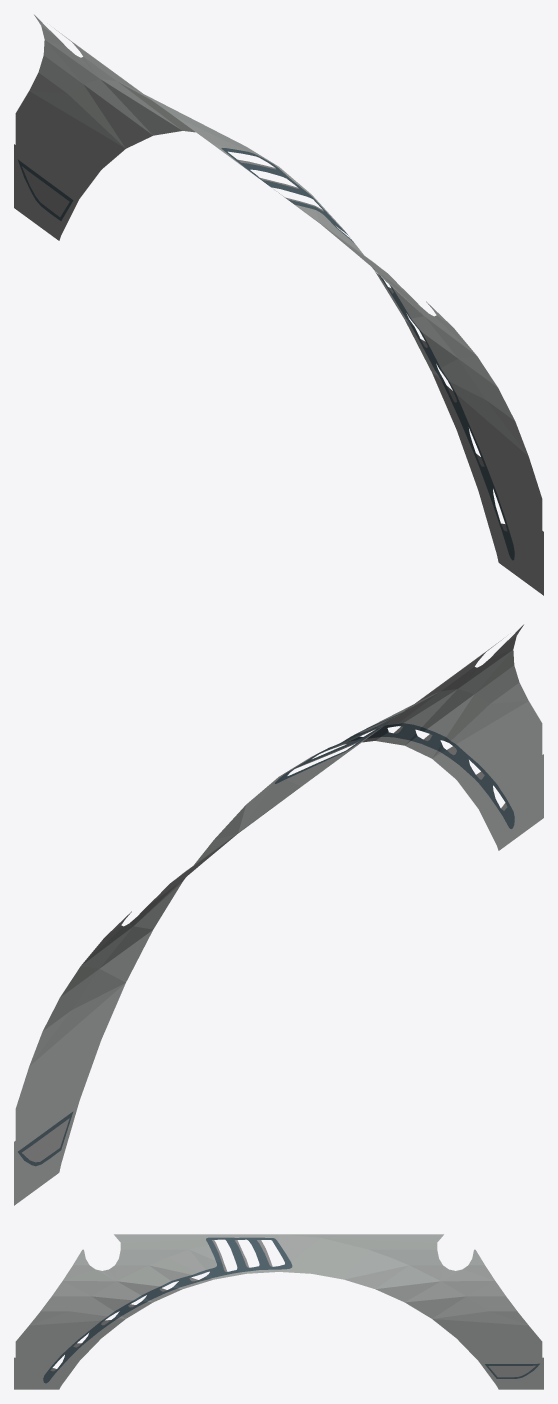
The picture shows the model from 3 angles, top to bottom: view 1: azimuth 30°, elevation 25°; view 2: azimuth 150°, elevation 25°; view 3: azimuth 270°, elevation 25°; orthographic projection. The views are drawn at different scales.
Visible parts, largest first — view 1: world; view 2: world; view 3: world.
Boxes of the visible parts, bbox=[...] form: world: bbox=[14, 14, 543, 595]; world: bbox=[14, 624, 543, 1205]; world: bbox=[14, 1234, 543, 1389].
Bounding box in the file's own units: 0.00905 × 0.0345 × 0.12.
